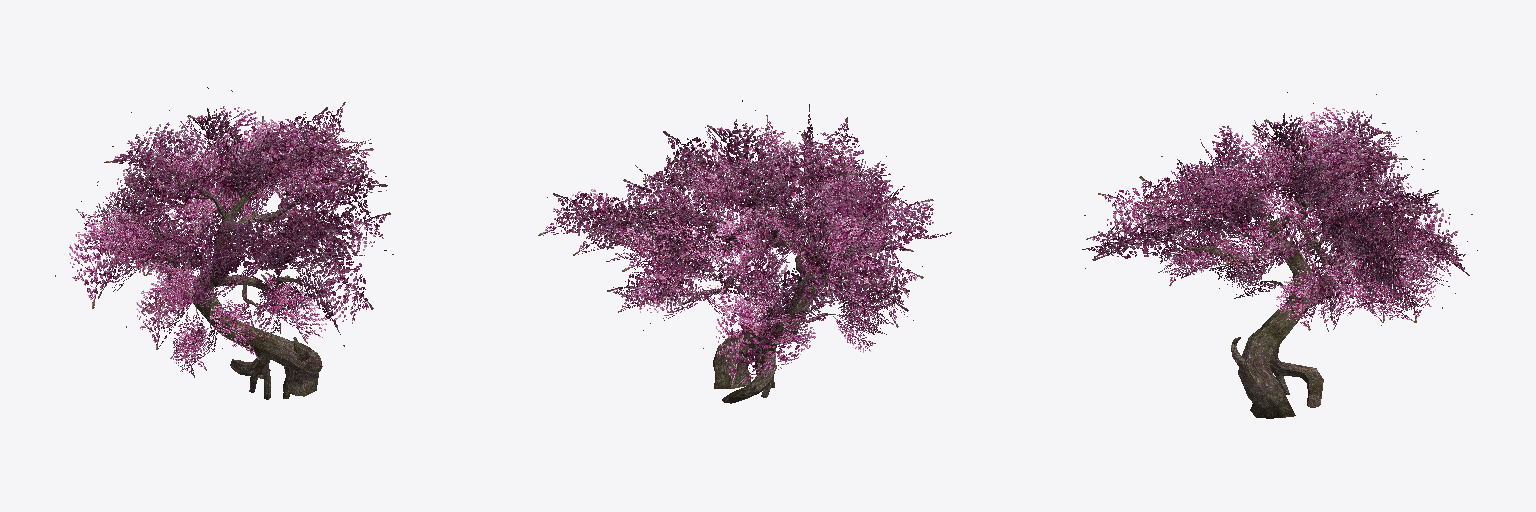
The picture shows the model from 3 angles: view 1: azimuth 30°, elevation 25°; view 2: azimuth 150°, elevation 25°; view 3: azimuth 270°, elevation 25°; orthographic projection.
Visible parts, largest first — view 1: DrawCall_0677; view 2: DrawCall_0677; view 3: DrawCall_0677.
Boxes of the visible parts, box(x1,y1,x2,y2) form: DrawCall_0677: box(55, 87, 393, 399); DrawCall_0677: box(538, 100, 951, 403); DrawCall_0677: box(1082, 92, 1477, 418).
Bounding box in the file's own units: 16.67 × 12.62 × 16.44.
Materials: 1 (1 with a texture image).